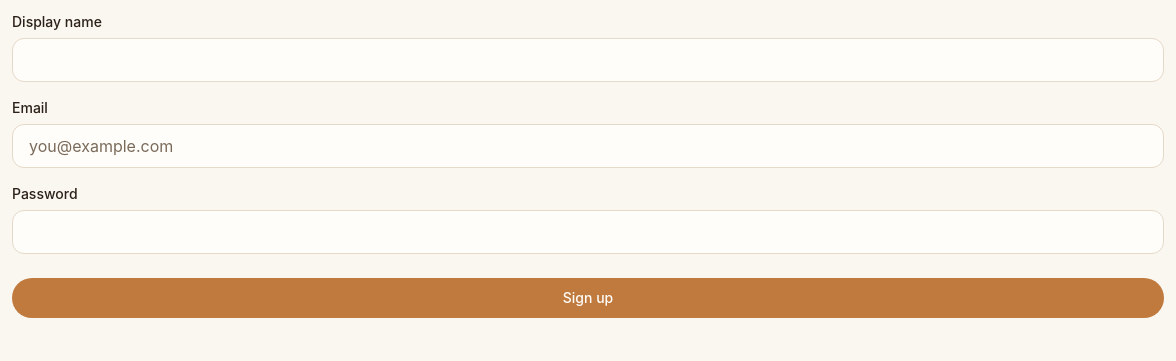
Test: RegisterForm › asks for a longer password before hitting the server
Step 1. Type "Ada" into the field labelled "Display name" → (588, 60), box [12,38,1164,82]
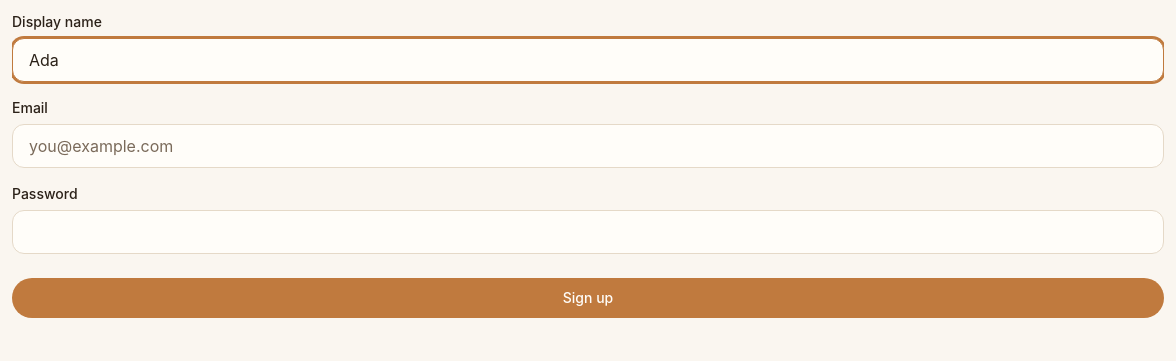
Step 2. Type "ada@example.com" into the field labelled "Email" → (588, 146), box [12,124,1164,168]
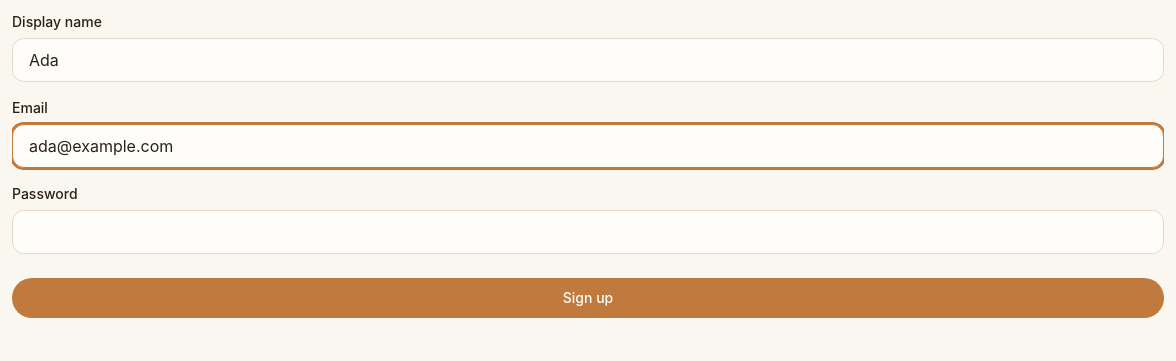
Step 3. Type "short" into the password field labelled "Password" → (588, 232), box [12,210,1164,254]
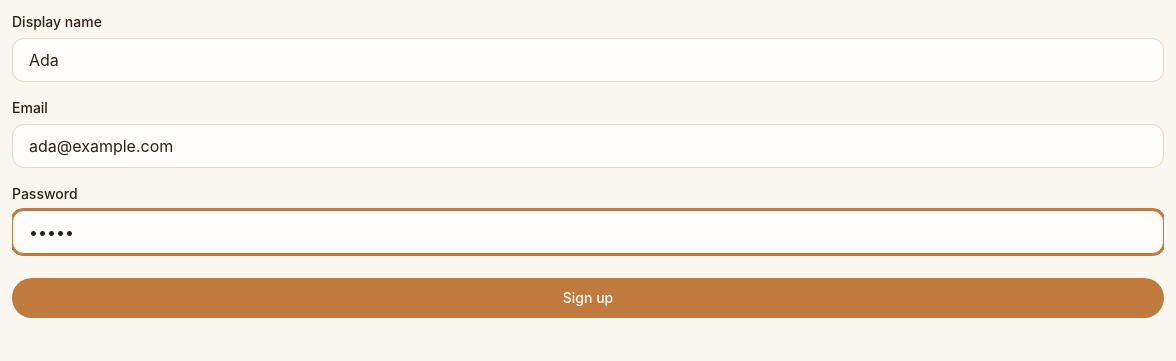
Step 4. Click the button "Sign up" → (588, 298), box [12,278,1164,318]
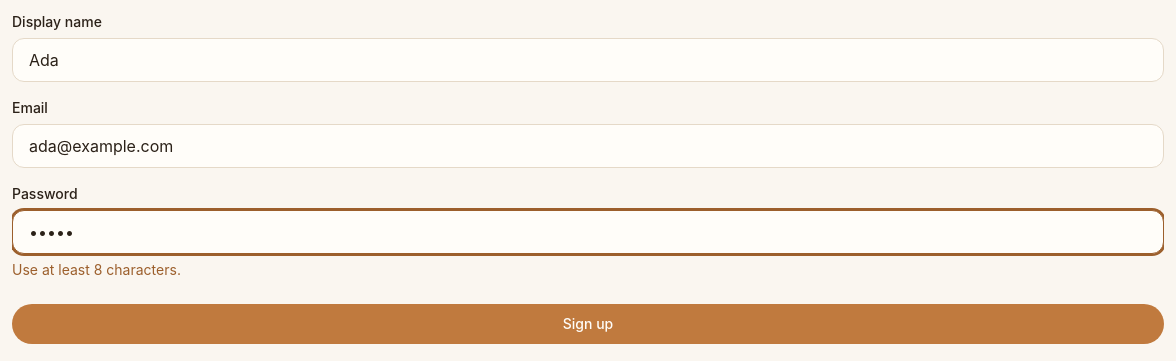
Expected: the text "Use at least 8 characters." is shown, [12,261,181,278]
